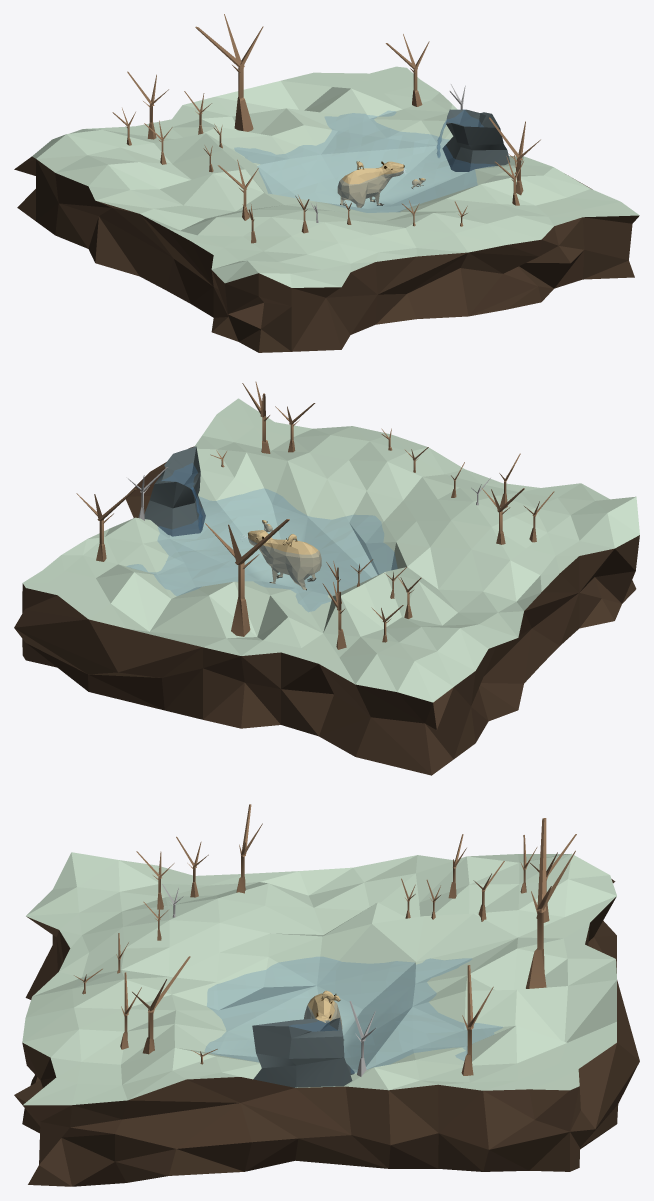
Rendered from capybaras_bath.glb.
The picture shows the model from 3 angles, top to bottom: view 1: azimuth 30°, elevation 25°; view 2: azimuth 150°, elevation 25°; view 3: azimuth 270°, elevation 25°; orthographic projection. The views are drawn at different scales.
Visible parts, largest first — view 1: Object_5, Object_2, Object_8, Object_7, Object_6, Object_4; view 2: Object_5, Object_2, Object_8, Object_7, Object_6, Object_4; view 3: Object_5, Object_2, Object_8, Object_7, Object_6, Object_4, Object_9.
Boxes of the visible parts, x1=… form: Object_5: x1=32, y1=66, x2=639, y2=287; Object_2: x1=14, y1=156, x2=639, y2=352; Object_8: x1=234, y1=110, x2=494, y2=212; Object_7: x1=112, y1=14, x2=540, y2=243; Object_6: x1=442, y1=109, x2=509, y2=171; Object_4: x1=337, y1=161, x2=425, y2=207; Object_5: x1=23, y1=398, x2=639, y2=702; Object_2: x1=14, y1=446, x2=639, y2=775; Object_8: x1=127, y1=463, x2=397, y2=611; Object_7: x1=76, y1=381, x2=554, y2=649; Object_6: x1=144, y1=446, x2=205, y2=536; Object_4: x1=248, y1=520, x2=321, y2=589; Object_5: x1=22, y1=852, x2=616, y2=1105; Object_2: x1=14, y1=879, x2=639, y2=1186; Object_8: x1=205, y1=957, x2=502, y2=1073; Object_7: x1=74, y1=804, x2=576, y2=1075; Object_6: x1=252, y1=1018, x2=354, y2=1087; Object_4: x1=304, y1=990, x2=342, y2=1029; Object_9: x1=162, y1=884, x2=375, y2=1077.
Size of the model in its own units: 329 by 121 by 322.
